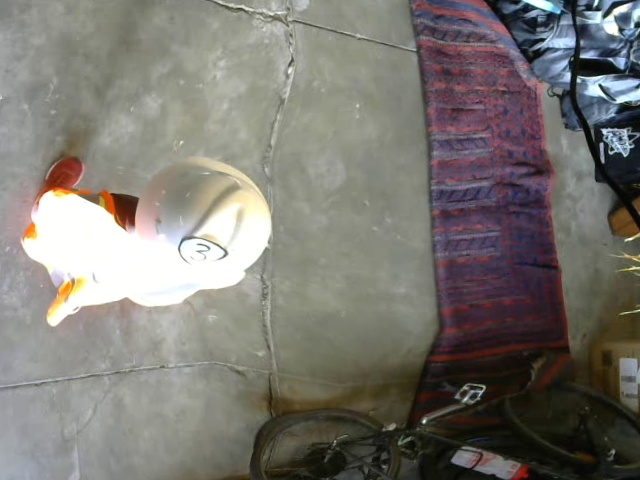three: (178, 236, 230, 269)
